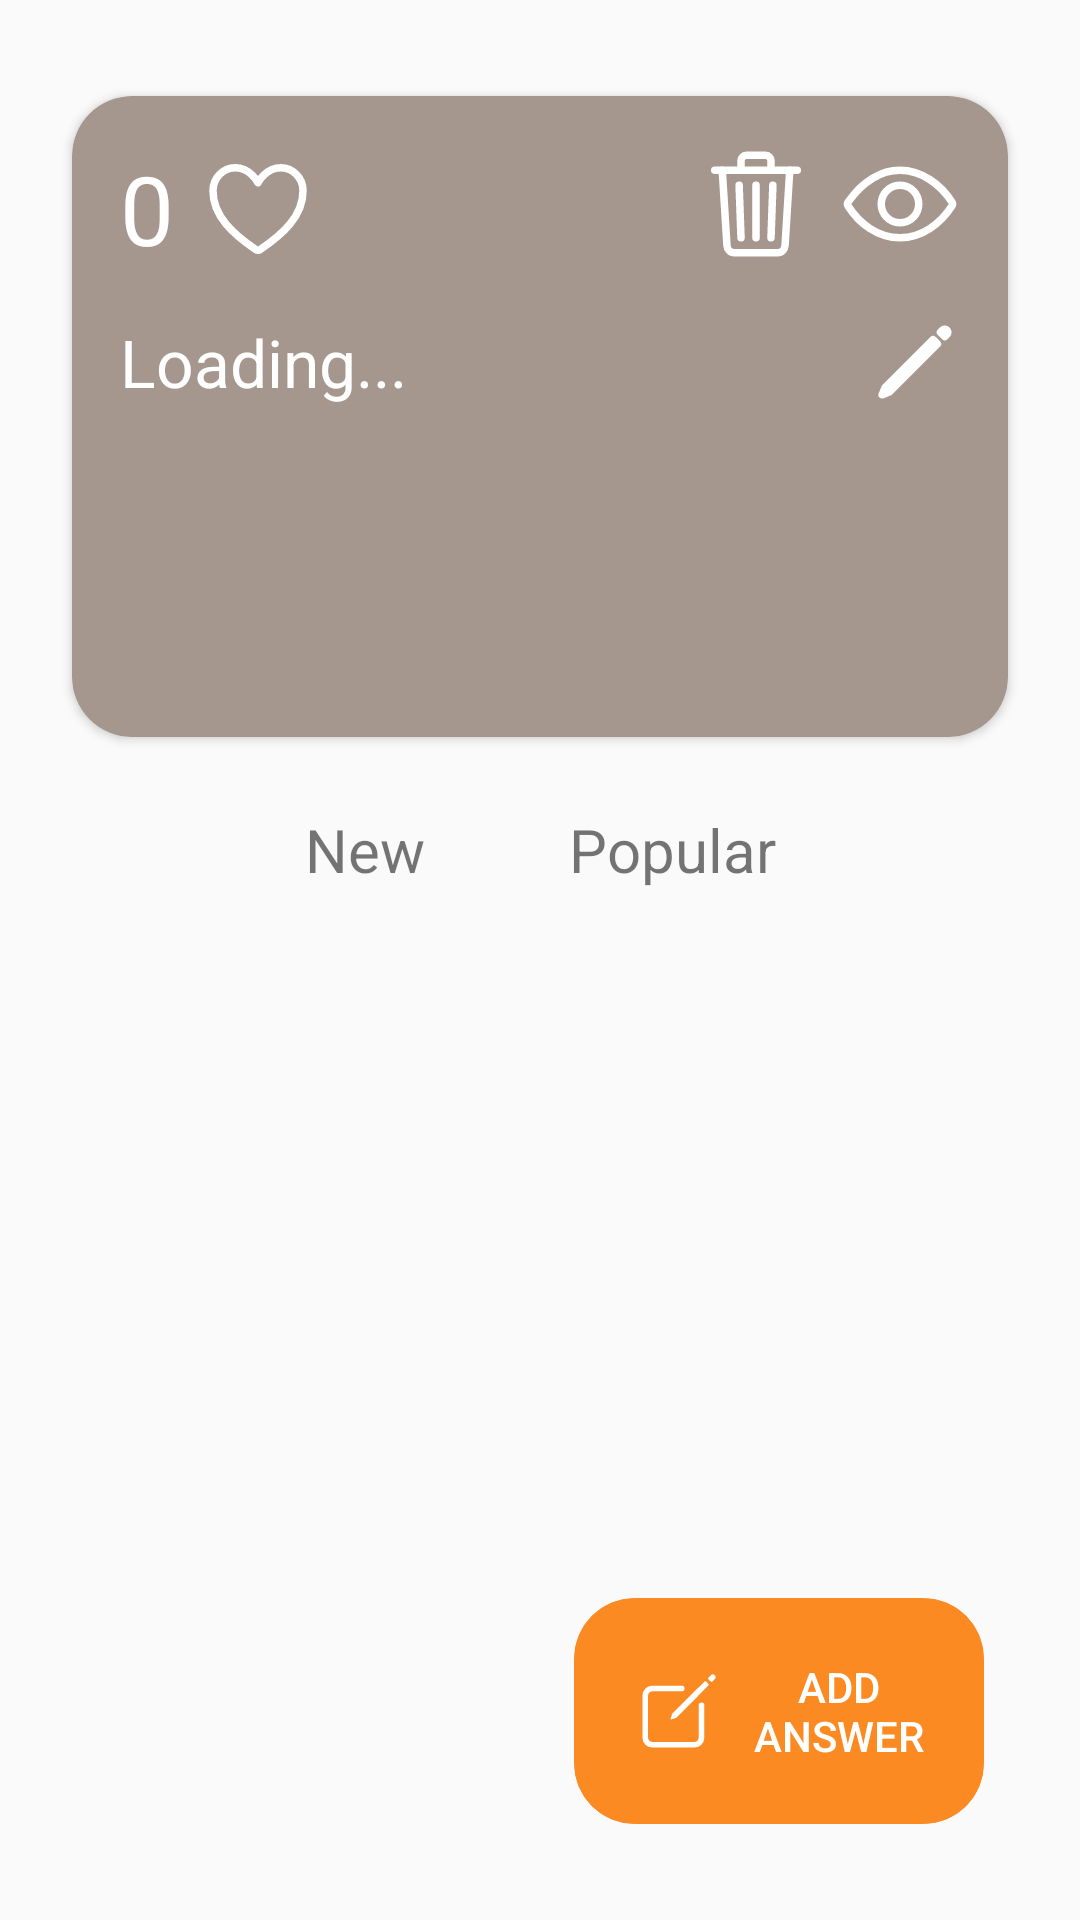

Icon bounding boxes for this 1080px x 1920px phone screenshot, format (x1, y1, x2, y2):
eye toggle: (843, 166, 957, 242)
heart toggle: (209, 164, 307, 254)
trash: (711, 151, 801, 257)
